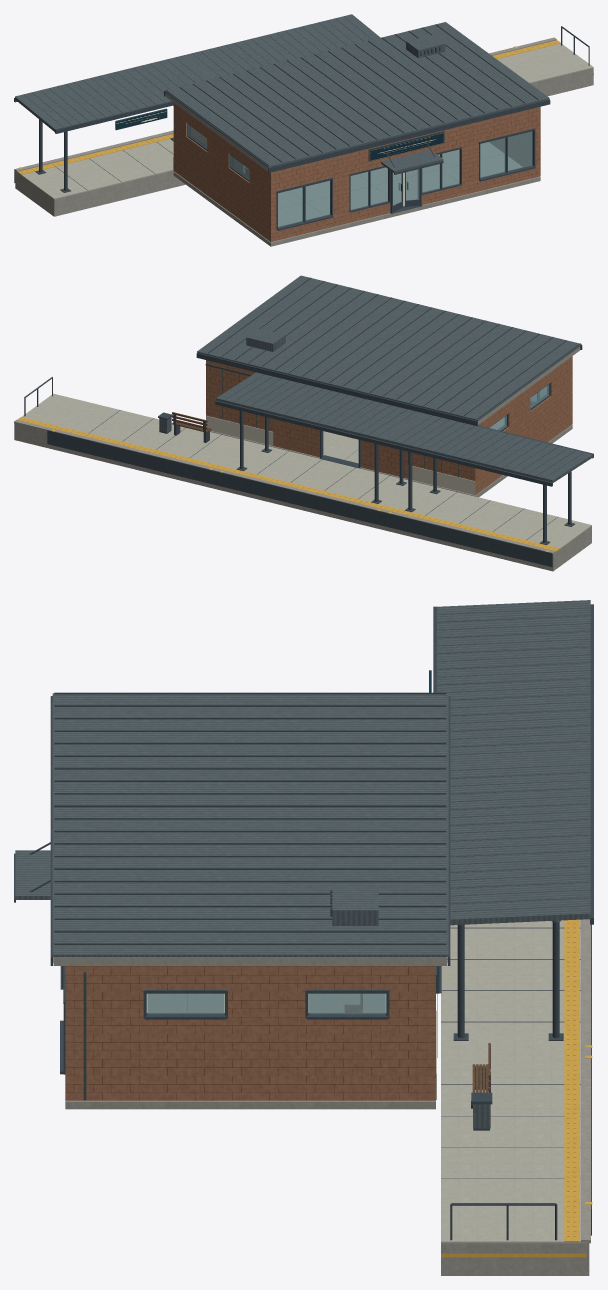
Rendered from PZ_Greyhaven_Station_Layout_REFERENCE.glb.
The picture shows the model from 3 angles, top to bottom: view 1: azimuth 30°, elevation 25°; view 2: azimuth 150°, elevation 25°; view 3: azimuth 270°, elevation 25°; orthographic projection. The views are drawn at different scales.
Visible parts, largest first — view 1: ROOF__Hall_Roof_16x10m__Roof_Weatherproof_Steel, CANOPY_1__Platform_Canopy_10x4m__Canopy_SingleSlope_Roof, CANOPY_2__Platform_Canopy_10x4m__Canopy_SingleSlope_Roof, HALL__Hall_Floor_16x10m__Floor_Interior_Terrazzo, PLATFORM_1__Platform_Straight_10x4m__Platform_Top_Paving, WALL_LEFT__Wall_Side_10m__Side_Masonry_Lower, ROOF__Hall_Roof_16x10m__Roof_StandingSeam_Ribs, PLATFORM_1__Platform_Straight_10x4m__Platform_Base_Concrete, HALL__Hall_Floor_16x10m__Floor_Concrete_Base, FRONT_LEFT__Facade_Glazed_4m__WindowPane_TintedGlass, FRONT_RIGHT__Facade_Glazed_4m__WindowPane_TintedGlass, ROOF__Hall_Roof_16x10m__Roof_Fascia_Front (+38 smaller); view 2: ROOF__Hall_Roof_16x10m__Roof_Weatherproof_Steel, CANOPY_1__Platform_Canopy_10x4m__Canopy_SingleSlope_Roof, CANOPY_2__Platform_Canopy_10x4m__Canopy_SingleSlope_Roof, PLATFORM_1__Platform_Straight_10x4m__Platform_Top_Paving, PLATFORM_2__Platform_Straight_10x4m__Platform_Top_Paving, PLATFORM_3__Platform_Straight_10x4m__Platform_Top_Paving, ROOF__Hall_Roof_16x10m__Roof_StandingSeam_Ribs, WALL_LEFT__Wall_Side_10m__Side_Masonry_Lower, PLATFORM_1__Platform_Straight_10x4m__Platform_Dark_Edge_Guar, PLATFORM_2__Platform_Straight_10x4m__Platform_Dark_Edge_Guar, PLATFORM_3__Platform_Straight_10x4m__Platform_Dark_Edge_Guar, REAR_EAST__Facade_Solid_4m__Solid_Brick_Wall (+29 smaller); view 3: ROOF__Hall_Roof_16x10m__Roof_Weatherproof_Steel, WALL_RIGHT__Wall_Side_10m__Side_Masonry_Lower, CANOPY_1__Platform_Canopy_10x4m__Canopy_SingleSlope_Roof, CANOPY_2__Platform_Canopy_10x4m__Canopy_SingleSlope_Roof, ROOF__Hall_Roof_16x10m__Roof_StandingSeam_Ribs, PLATFORM_3__Platform_Straight_10x4m__Platform_Top_Paving, PLATFORM_2__Platform_Straight_10x4m__Platform_Top_Paving, WALL_RIGHT__Wall_Side_10m__Side_Masonry_Upper, WALL_RIGHT__Wall_Side_10m__Clerestory_Masonry_Panel, EAST_END__Platform_EndCap_2x4m__Platform_End_Base, EAST_END__Platform_EndCap_2x4m__Platform_End_Top, HALL__Hall_Floor_16x10m__Floor_Concrete_Base (+15 smaller).
Part boxes in pixels (x1,y1,x2,y2): ROOF__Hall_Roof_16x10m__Roof_Weatherproof_Steel: (164,22,549,167); CANOPY_1__Platform_Canopy_10x4m__Canopy_SingleSlope_Roof: (15,55,211,131); CANOPY_2__Platform_Canopy_10x4m__Canopy_SingleSlope_Roof: (184,14,380,78); HALL__Hall_Floor_16x10m__Floor_Interior_Terrazzo: (278,142,521,226); PLATFORM_1__Platform_Straight_10x4m__Platform_Top_Paving: (15,139,173,199); WALL_LEFT__Wall_Side_10m__Side_Masonry_Lower: (173,128,272,241); ROOF__Hall_Roof_16x10m__Roof_StandingSeam_Ribs: (165,24,538,165); PLATFORM_1__Platform_Straight_10x4m__Platform_Base_Concrete: (15,170,185,216); HALL__Hall_Floor_16x10m__Floor_Concrete_Base: (173,171,540,246); FRONT_LEFT__Facade_Glazed_4m__WindowPane_TintedGlass: (278,180,330,227); FRONT_RIGHT__Facade_Glazed_4m__WindowPane_TintedGlass: (480,131,532,177); ROOF__Hall_Roof_16x10m__Roof_Fascia_Front: (268,100,550,172); ROOF__Hall_Roof_16x10m__Roof_Weatherproof_Steel: (197,275,581,420); CANOPY_1__Platform_Canopy_10x4m__Canopy_SingleSlope_Roof: (384,413,592,482); CANOPY_2__Platform_Canopy_10x4m__Canopy_SingleSlope_Roof: (216,372,423,441); PLATFORM_1__Platform_Straight_10x4m__Platform_Top_Paving: (392,484,591,553); PLATFORM_2__Platform_Straight_10x4m__Platform_Top_Paving: (224,443,422,507); PLATFORM_3__Platform_Straight_10x4m__Platform_Top_Paving: (55,402,254,466); ROOF__Hall_Roof_16x10m__Roof_StandingSeam_Ribs: (208,278,580,419); WALL_LEFT__Wall_Side_10m__Side_Masonry_Lower: (471,381,572,494); PLATFORM_1__Platform_Straight_10x4m__Platform_Dark_Edge_Guar: (384,512,552,567); PLATFORM_2__Platform_Straight_10x4m__Platform_Dark_Edge_Guar: (215,471,383,525); PLATFORM_3__Platform_Straight_10x4m__Platform_Dark_Edge_Guar: (47,430,215,484); REAR_EAST__Facade_Solid_4m__Solid_Brick_Wall: (206,360,273,431); ROOF__Hall_Roof_16x10m__Roof_Weatherproof_Steel: (52,693,448,956); WALL_RIGHT__Wall_Side_10m__Side_Masonry_Lower: (65,1018,435,1100); CANOPY_1__Platform_Canopy_10x4m__Canopy_SingleSlope_Roof: (437,600,590,762); CANOPY_2__Platform_Canopy_10x4m__Canopy_SingleSlope_Roof: (450,756,590,925); ROOF__Hall_Roof_16x10m__Roof_StandingSeam_Ribs: (54,692,446,944); PLATFORM_3__Platform_Straight_10x4m__Platform_Top_Paving: (441,1053,580,1210); PLATFORM_2__Platform_Straight_10x4m__Platform_Top_Paving: (441,919,580,1053); WALL_RIGHT__Wall_Side_10m__Side_Masonry_Upper: (65,966,435,990); WALL_RIGHT__Wall_Side_10m__Clerestory_Masonry_Panel: (65,990,435,1017); EAST_END__Platform_EndCap_2x4m__Platform_End_Base: (441,1243,589,1275); EAST_END__Platform_EndCap_2x4m__Platform_End_Top: (441,1210,586,1243); HALL__Hall_Floor_16x10m__Floor_Concrete_Base: (65,1100,435,1109).
Bounding box in the file's own units: 32.01 × 5.98 × 15.64.
Materials: 13 (13 with a texture image).
